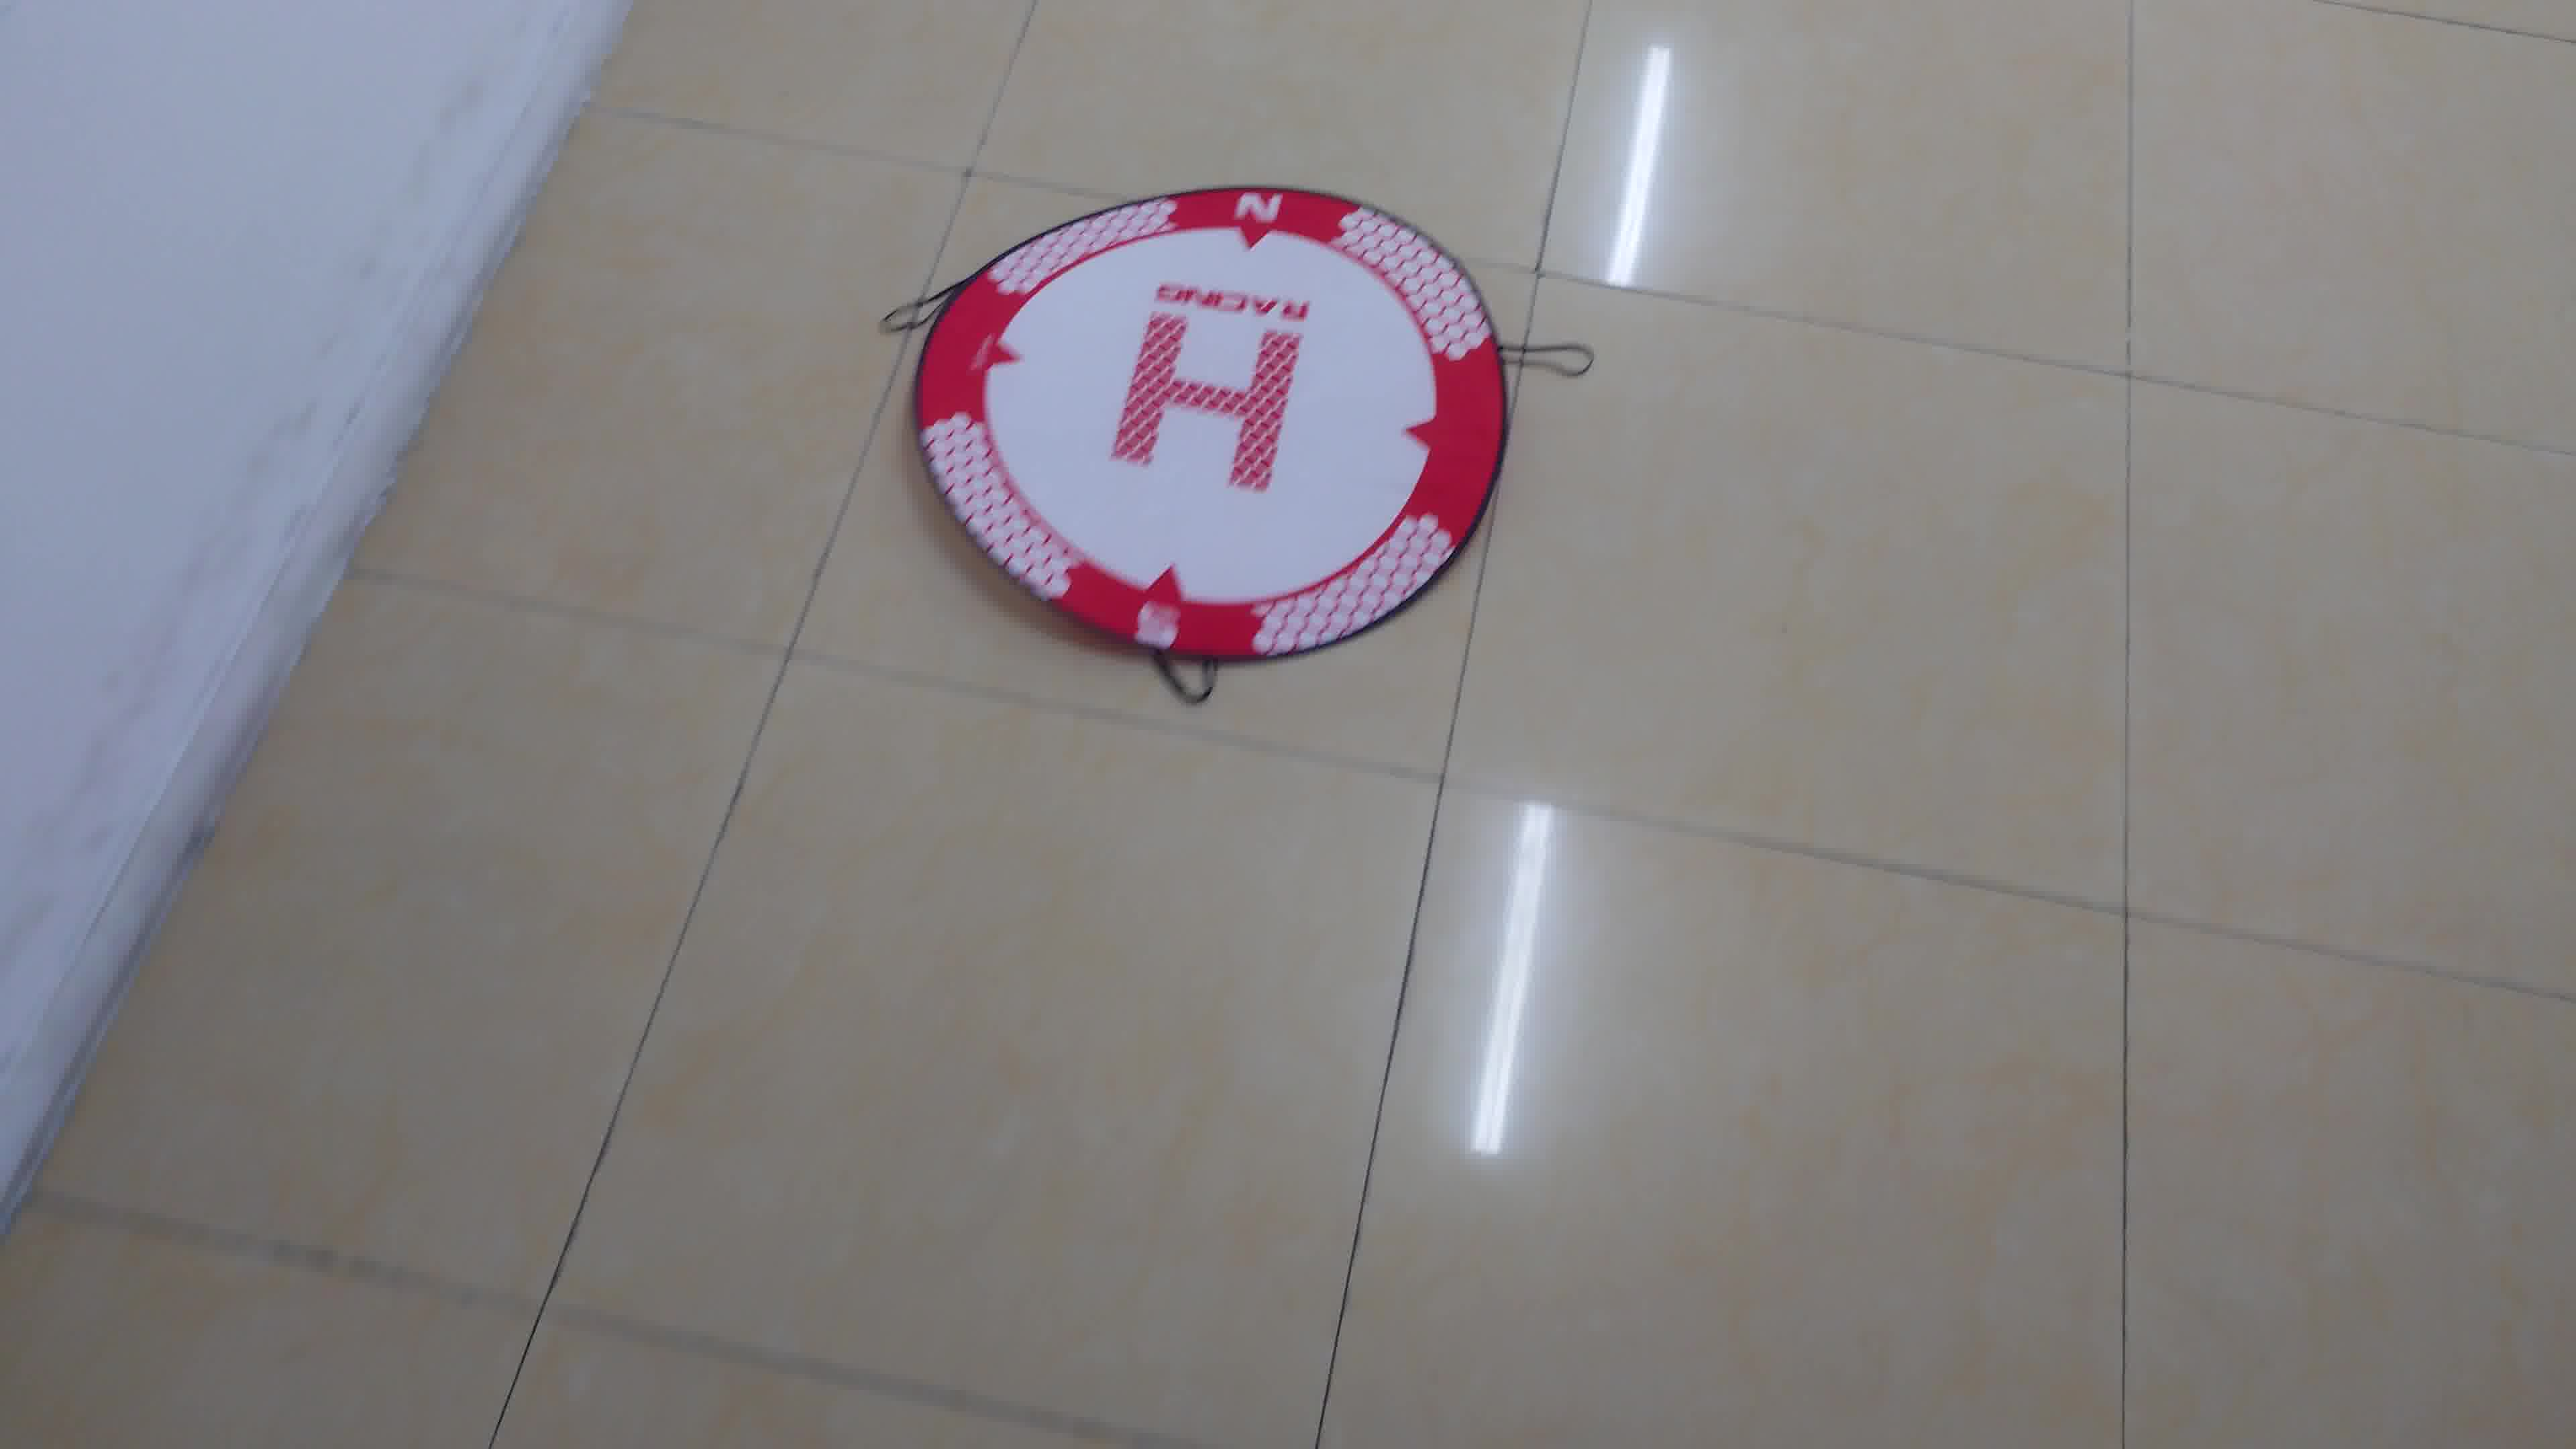H: (1111, 311, 1304, 492)
